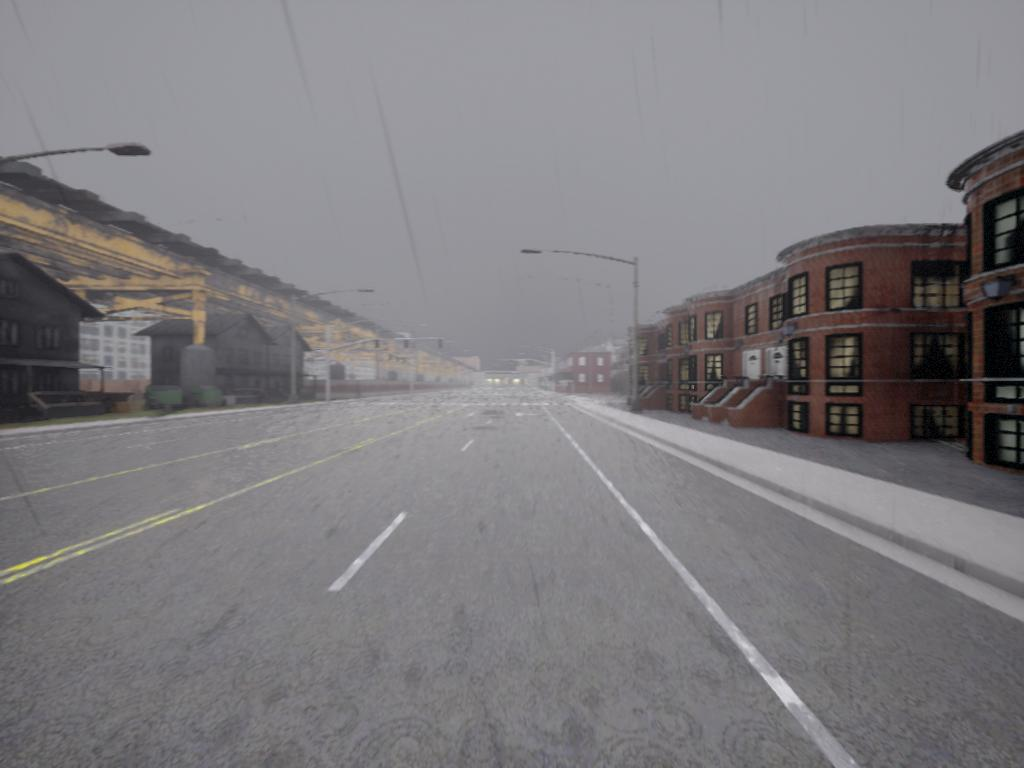traffic_light: (405, 339, 411, 350), (439, 340, 444, 351), (376, 340, 381, 350), (510, 358, 514, 369), (526, 360, 530, 369)
